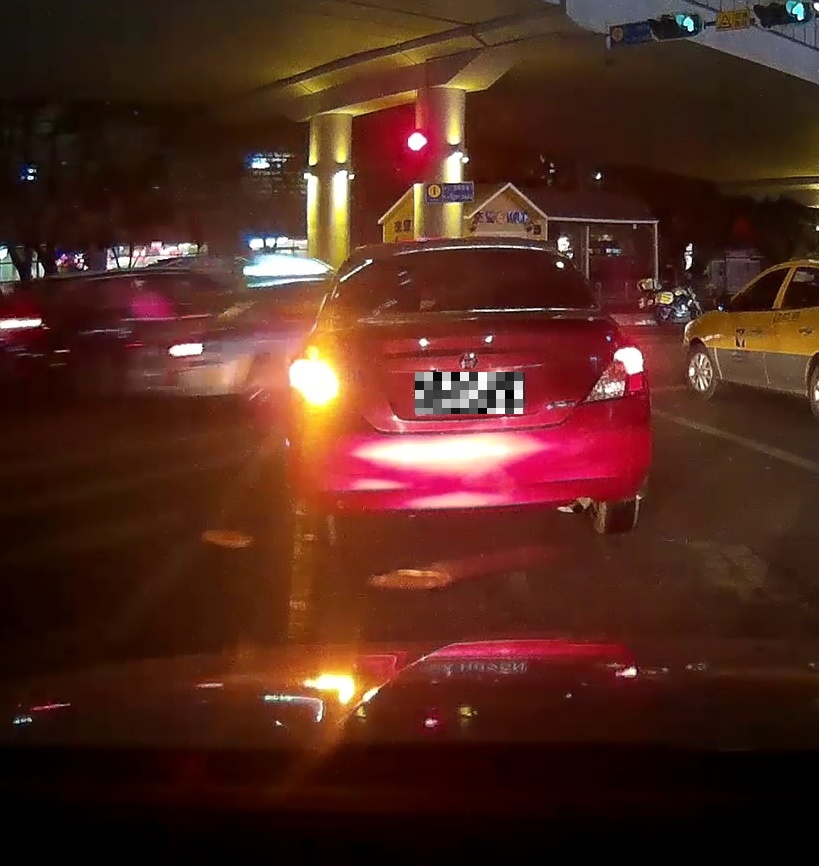L_light: (288, 359, 342, 409)
R_light: (575, 345, 648, 405)
T_light: (443, 248, 491, 253)
night-left: (288, 235, 654, 551)
plate_1: (415, 372, 523, 414)
